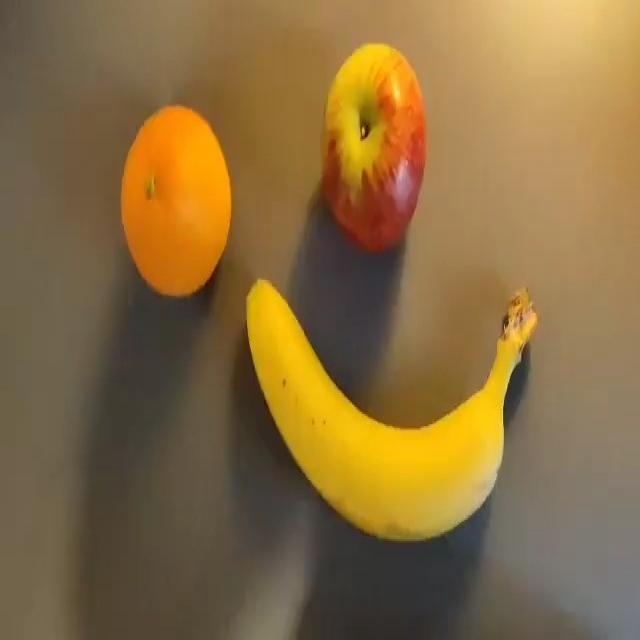Apple: (320, 42, 427, 253)
Banana: (244, 277, 538, 542)
Orange: (119, 104, 232, 297)
